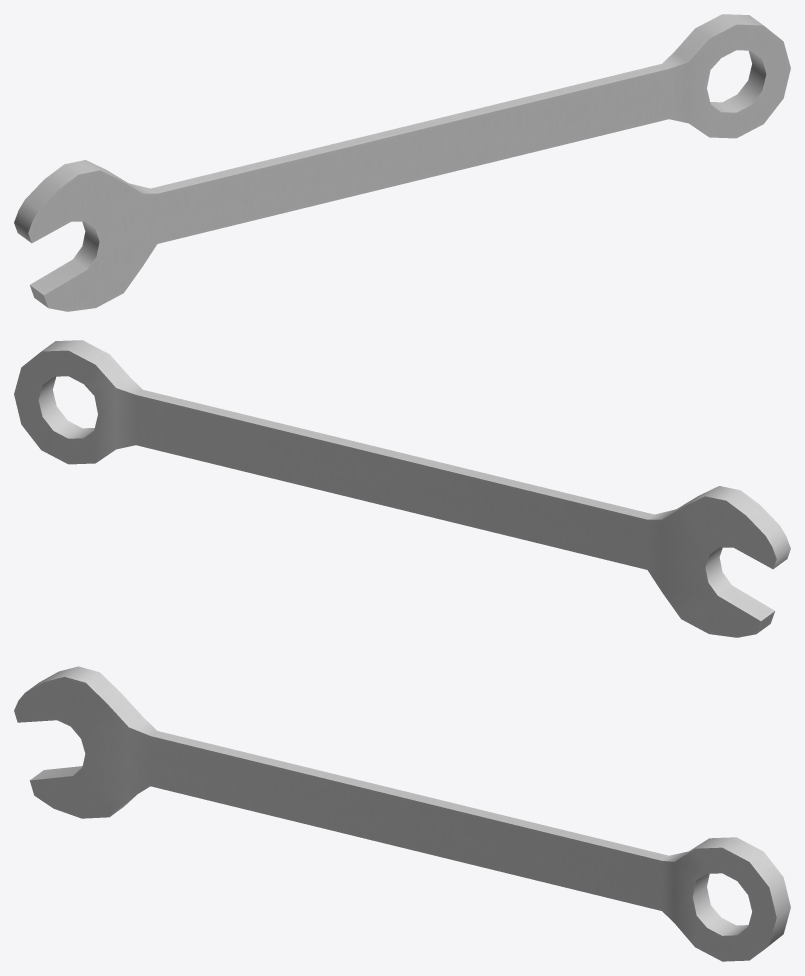
File: tool_wrench_13mm.glb
The picture shows the model from 3 angles, top to bottom: view 1: azimuth 30°, elevation 25°; view 2: azimuth 150°, elevation 25°; view 3: azimuth 330°, elevation 25°; orthographic projection.
Visible parts, largest first — view 1: tool_wrench_13mm; view 2: tool_wrench_13mm; view 3: tool_wrench_13mm.
Boxes of the visible parts, x1=… form: tool_wrench_13mm: x1=14, y1=14, x2=790, y2=311; tool_wrench_13mm: x1=14, y1=340, x2=790, y2=637; tool_wrench_13mm: x1=14, y1=666, x2=790, y2=961.
Size of the model in its own units: 0.1274 by 0.022 by 0.00411.
1 material, 1 textured.
